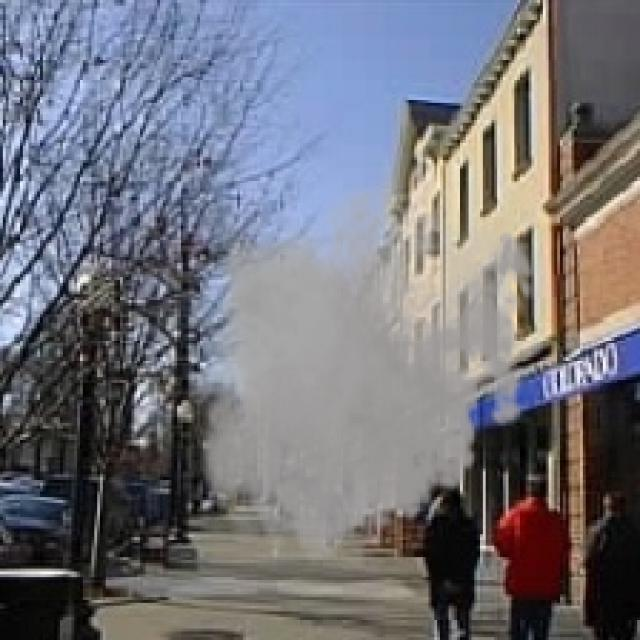Smoke: (188, 166, 546, 574)
